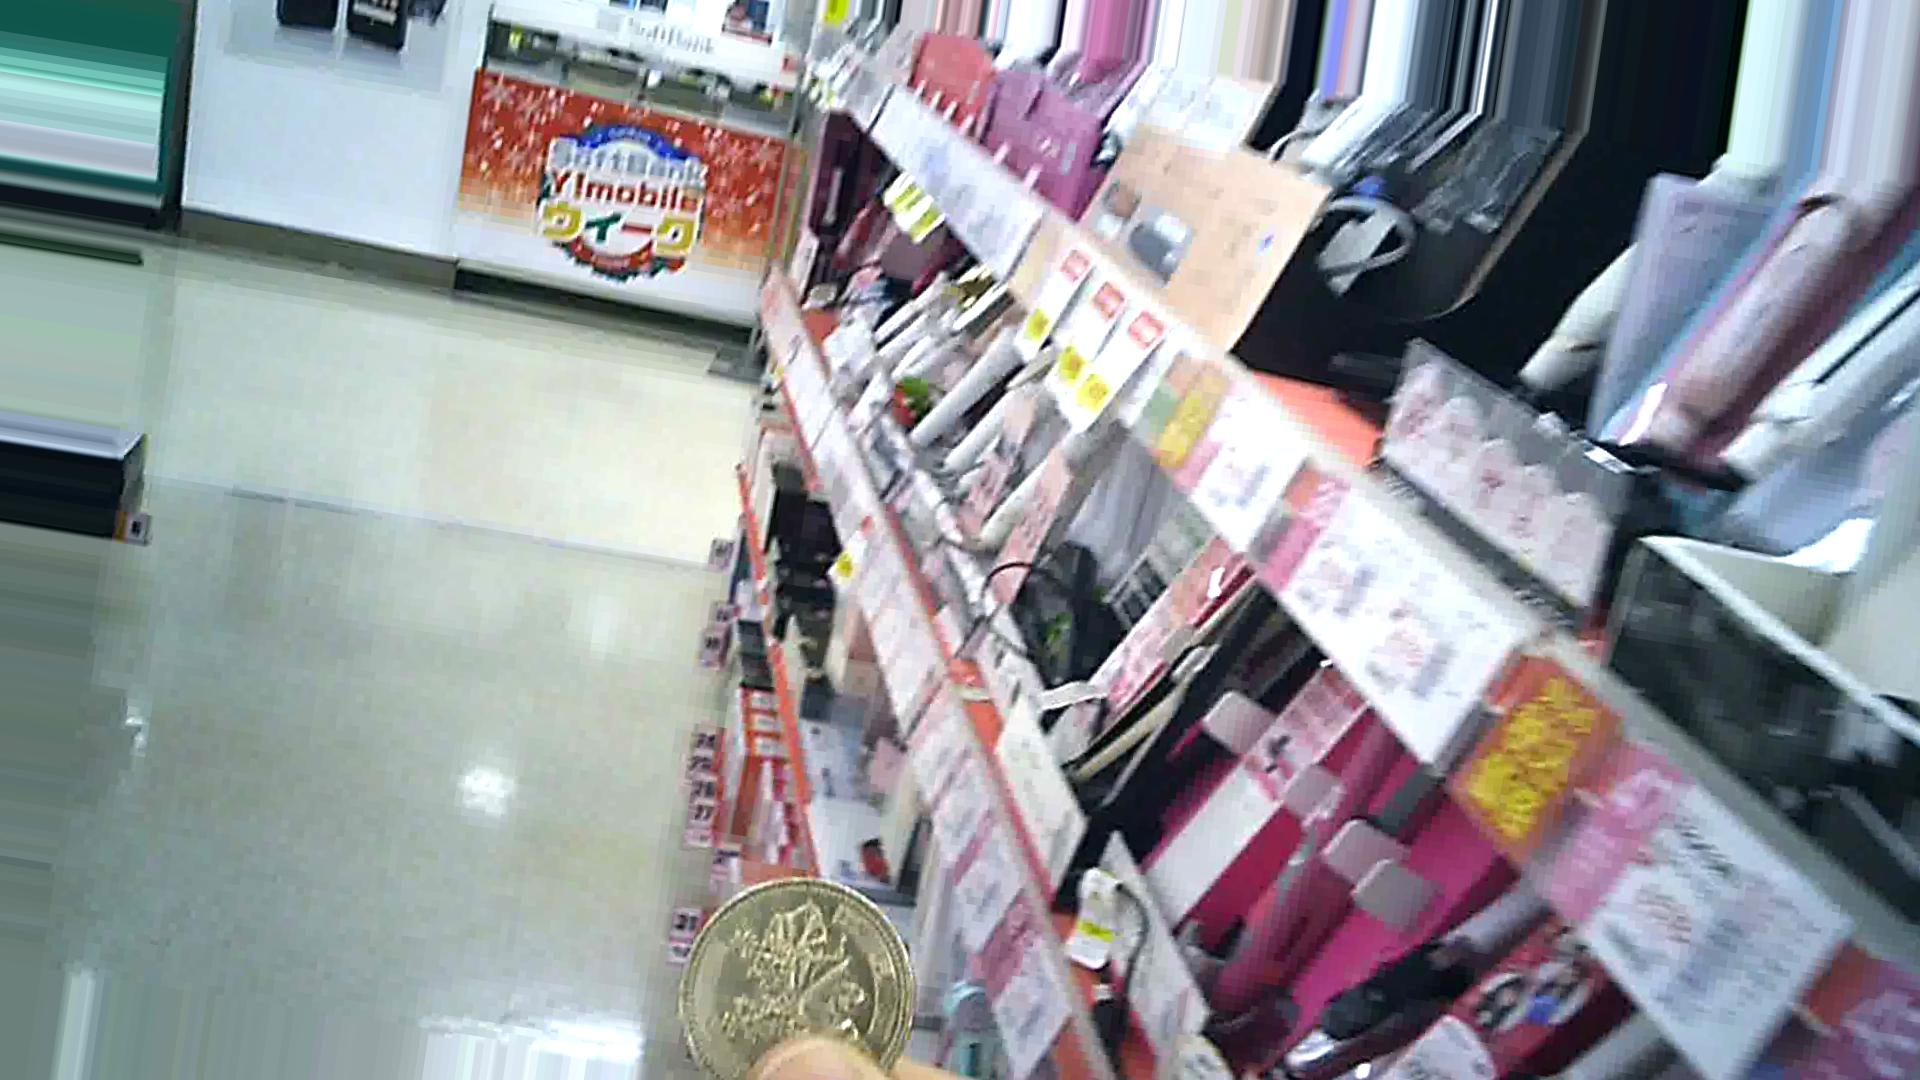500 Yen: (647, 865, 909, 1069)
